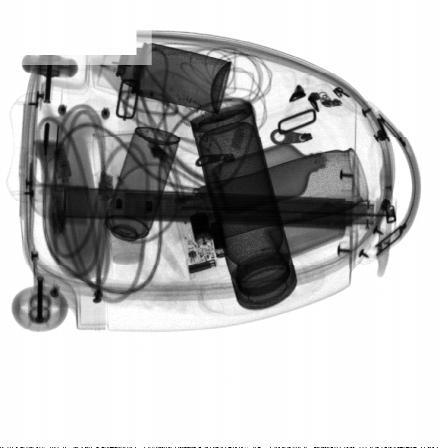Sprayer: (97, 126, 181, 257), (97, 34, 232, 115)
